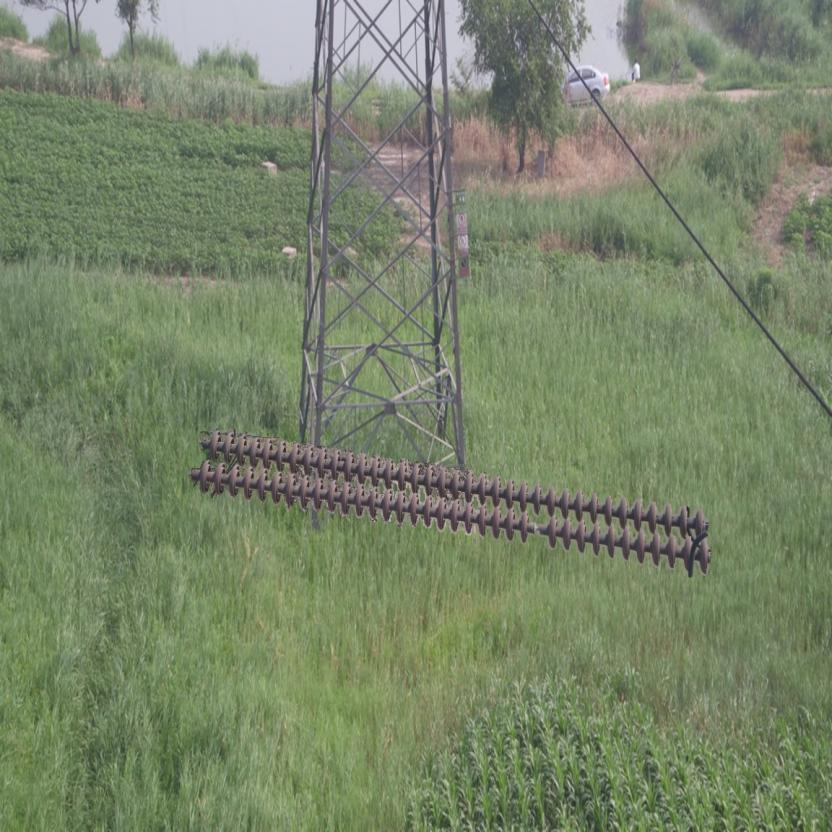defect: (512, 505, 561, 549)
